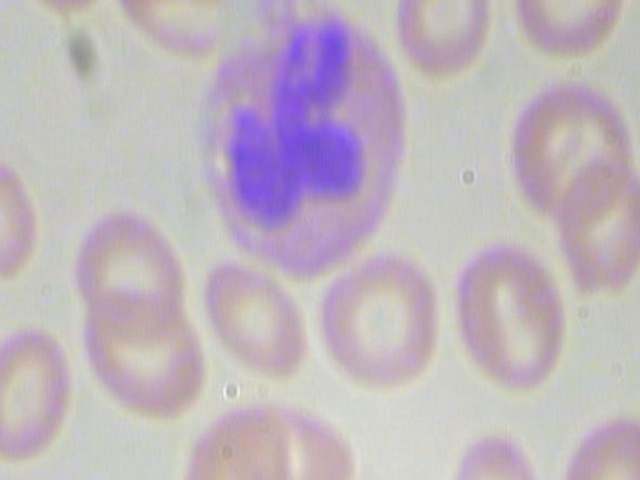RBC: (498, 74, 636, 235), (443, 234, 576, 398), (68, 199, 198, 354), (319, 253, 445, 402), (78, 289, 211, 425), (198, 255, 312, 387), (549, 149, 640, 295), (0, 317, 79, 471), (227, 389, 359, 480), (173, 393, 303, 480), (112, 0, 244, 70), (388, 0, 494, 85), (427, 427, 557, 480), (560, 399, 640, 480)
WBC: (185, 0, 415, 280)
